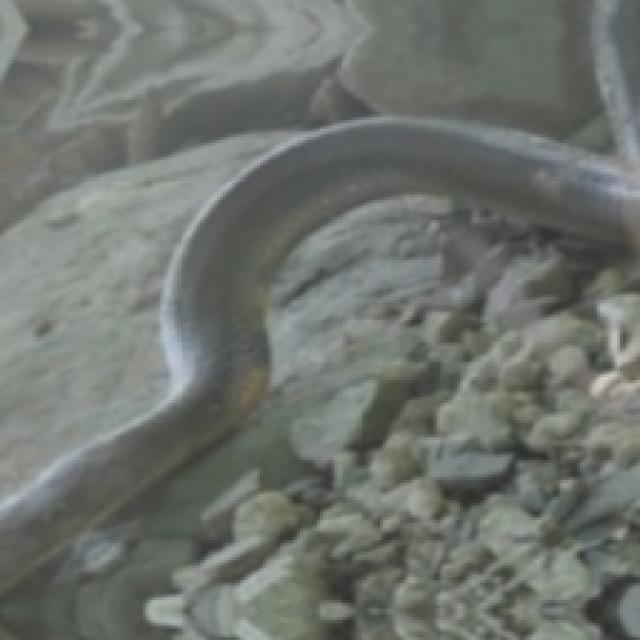king cobra: (0, 0, 637, 494), (0, 194, 637, 637)
